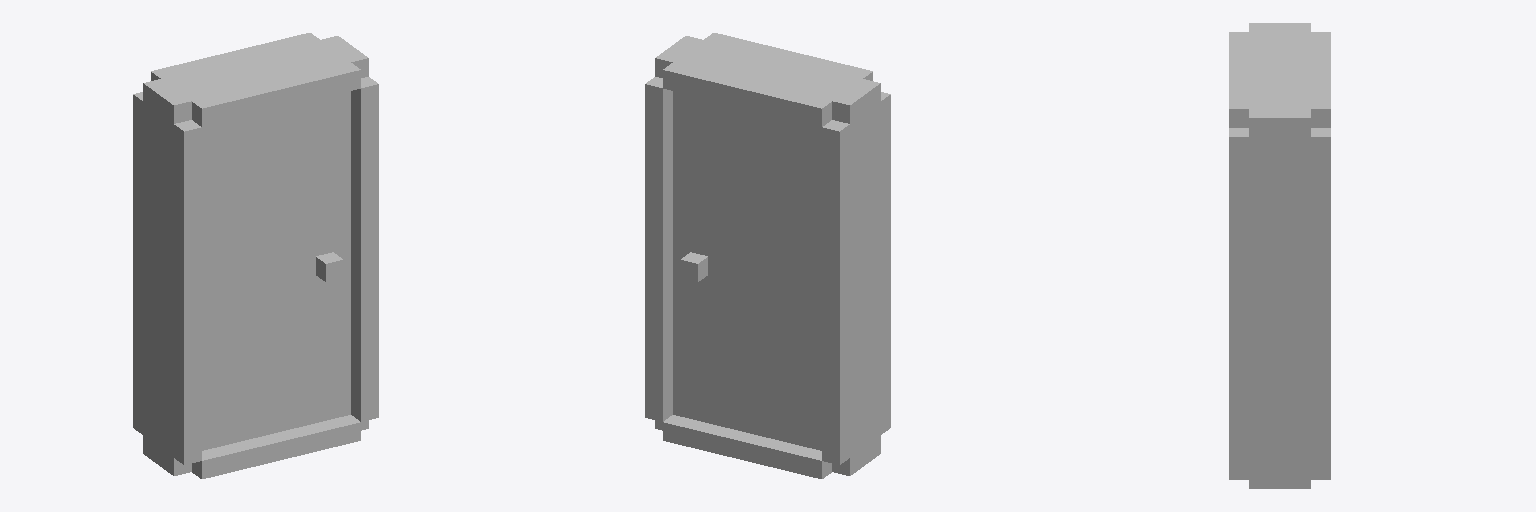
Rendered from door.obj.
3 views of the same model, side by side, from view 1: azimuth 30°, elevation 25°; view 2: azimuth 150°, elevation 25°; view 3: azimuth 270°, elevation 25° (orthographic).
Visible parts, largest first — view 1: object 1; view 2: object 1; view 3: object 1.
Boxes of the visible parts, <box> form: object 1: <box>133,33,378,478</box>; object 1: <box>645,33,890,478</box>; object 1: <box>1229,23,1330,488</box>.
Bounding box in the file's own units: 1.1 × 2 × 0.5.